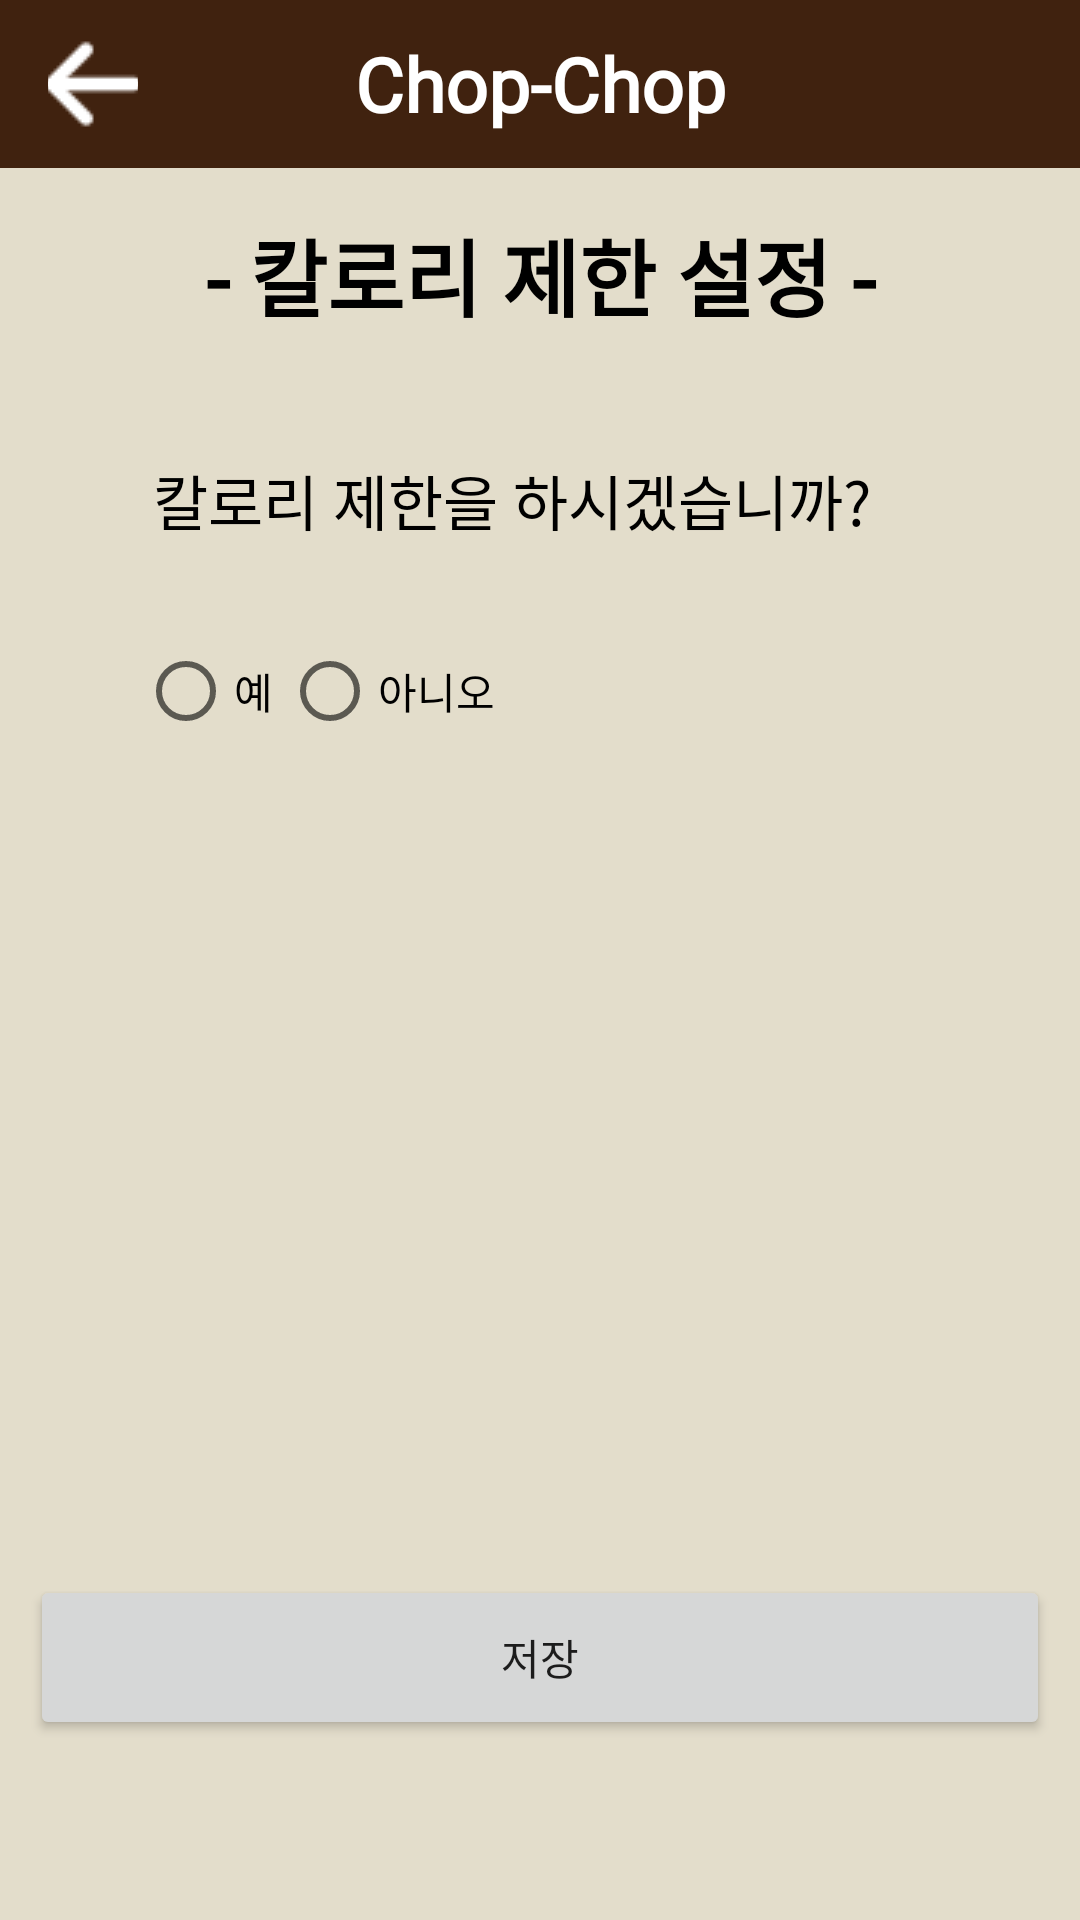

Named icons in this screenshot (1080x1920) and their bounding boxes, Rect(x1, y1, x2, y2):
back: Rect(48, 41, 138, 127)
